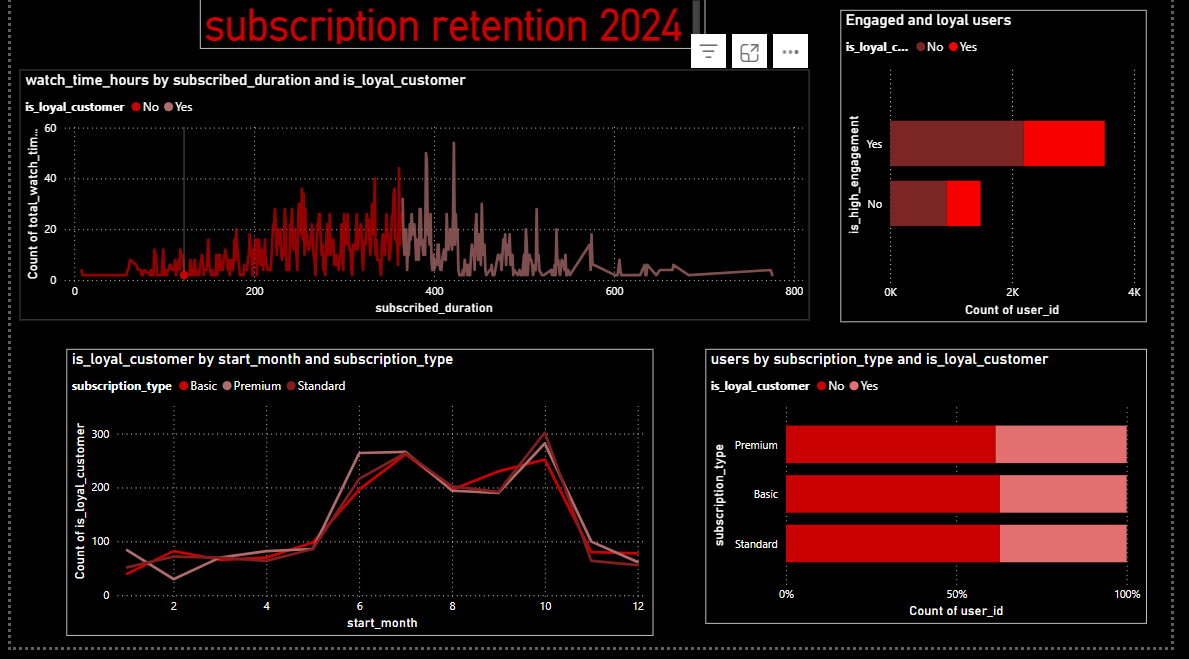

The dashboard page shown, as its layout file describes it:
{"tool":"powerbi","page":{"name":"Page 6","canvas":[1280,720],"ordinal":5},"visuals":[{"type":"textbox","box":[208.7,0,558.2,59.6],"z":0},{"type":"lineChart","title":" is_loyal_customer by start_month and subscription_type","fields":{"Category":["Netflix_Final.start_month"],"Y":["CountNonNull(Netflix_Final.is_loyal_customer)"],"Series":["Netflix_Final.subscription_type"]},"box":[61.3,390.9,647.7,316.4],"z":1000},{"type":"hundredPercentStackedBarChart","title":"users by subscription_type and is_loyal_customer","fields":{"Series":["Netflix_Final.is_loyal_customer"],"Y":["CountNonNull(Netflix_Final.user_id)"],"Category":["Netflix_Final.subscription_type"]},"box":[767,390.9,487,303.1],"z":2000},{"type":"barChart","title":"Engaged and loyal users","fields":{"Category":["Netflix_Final.is_high_engagement"],"Y":["CountNonNull(Netflix_Final.user_id)"],"Series":["Netflix_Final.is_loyal_customer"]},"box":[916,16.6,337.9,344.5],"z":3000},{"type":"lineChart","title":" watch_time_hours by subscribed_duration and is_loyal_customer","fields":{"Category":["Netflix_Final.subscribed_duration"],"Y":["CountNonNull(Netflix_Final.total_watch_time_hours)"],"Series":["Netflix_Final.is_loyal_customer"]},"box":[9.9,82.8,871.3,276.6],"z":4000}]}

Visuals, with their boxes in screenshot pixels (x1, y1, x2, y2), scaled from the page's 1280x720 canvas onto the 1189x659 screenshot:
textbox: bbox=(194, 0, 712, 55)
" is_loyal_customer by start_month and subscription_type" lineChart: bbox=(57, 358, 659, 647)
"users by subscription_type and is_loyal_customer" hundredPercentStackedBarChart: bbox=(712, 358, 1165, 635)
"Engaged and loyal users" barChart: bbox=(851, 15, 1165, 331)
" watch_time_hours by subscribed_duration and is_loyal_customer" lineChart: bbox=(9, 76, 819, 329)
